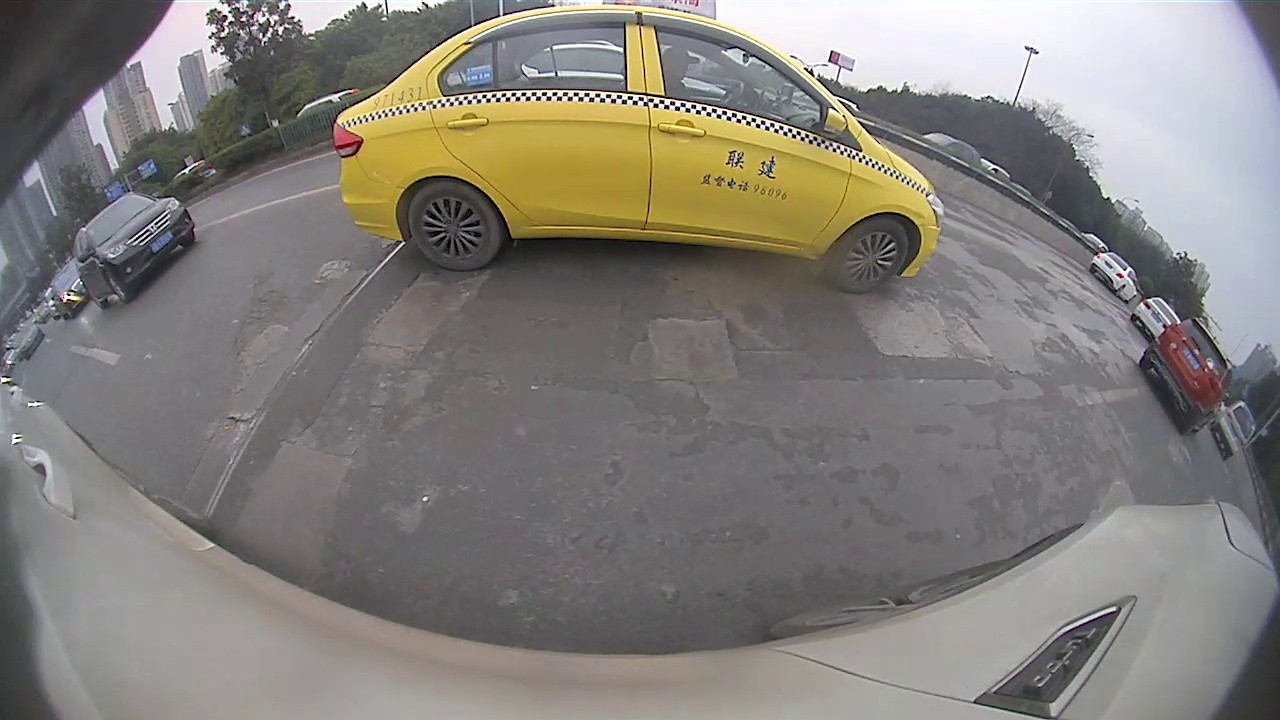car: (330, 2, 945, 296), (71, 193, 196, 309), (1139, 314, 1237, 439), (1088, 250, 1140, 304), (1213, 397, 1257, 460), (1130, 297, 1181, 342)
front: (823, 217, 911, 299), (102, 265, 135, 304)
rear: (407, 179, 500, 273)
